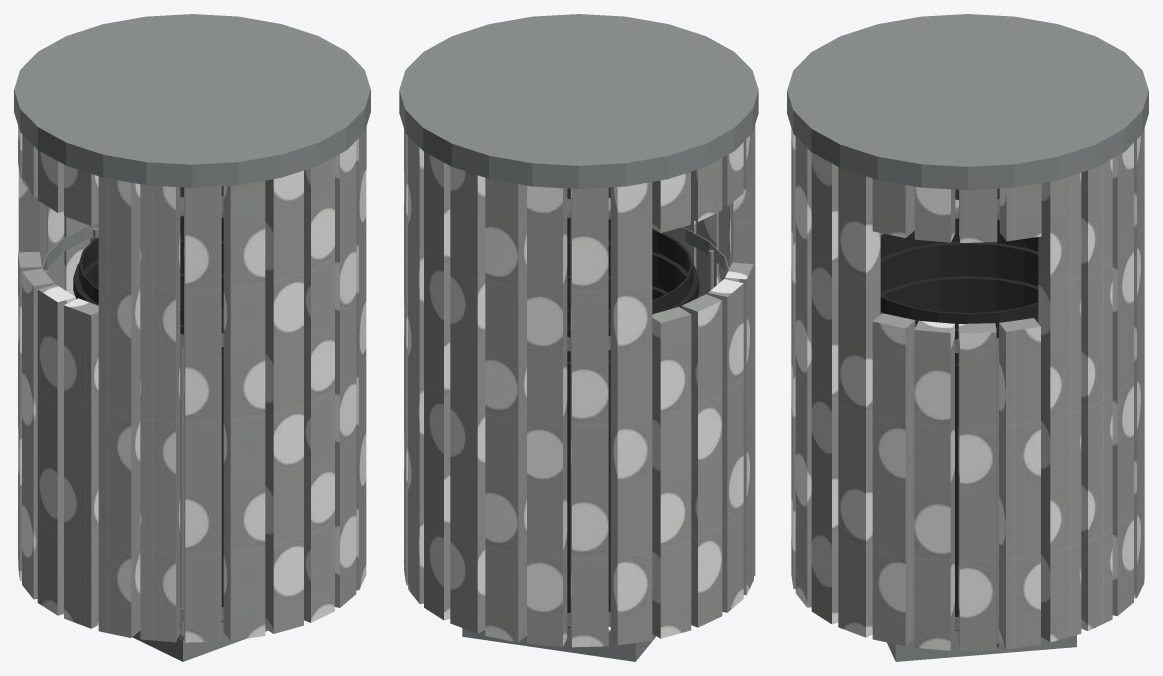
The picture shows the model from 3 angles, left to right: view 1: azimuth 30°, elevation 25°; view 2: azimuth 150°, elevation 25°; view 3: azimuth 270°, elevation 25°; orthographic projection.
Parts seen in each view (by area): view 1: mesh90.001_mesh90-geometry, mesh111.001_mesh111-geometry, mesh110.001_mesh110-geometry, mesh109.001_mesh109-geometry, mesh95.001_mesh95-geometry, mesh112.001_mesh112-geometry, mesh105.001_mesh105-geometry, mesh107.001_mesh107-geometry, mesh85.001_mesh85-geometry, mesh83.001_mesh83-geometry, mesh117.001_mesh117-geometry, mesh115.001_mesh115-geometry (+11 smaller); view 2: mesh90.001_mesh90-geometry, mesh120.001_mesh120-geometry, mesh119.001_mesh119-geometry, mesh114.001_mesh114-geometry, mesh113.001_mesh113-geometry, mesh116.001_mesh116-geometry, mesh93.001_mesh93-geometry, mesh94.001_mesh94-geometry, mesh117.001_mesh117-geometry, mesh83.001_mesh83-geometry, mesh118.001_mesh118-geometry, mesh73.002_mesh73-geometry (+11 smaller); view 3: mesh90.001_mesh90-geometry, mesh86.001_mesh86-geometry, mesh115.001_mesh115-geometry, mesh118.001_mesh118-geometry, mesh73.002_mesh73-geometry, mesh92.001_mesh92-geometry, mesh103.001_mesh103-geometry, mesh106.001_mesh106-geometry, mesh85.001_mesh85-geometry, mesh108.001_mesh108-geometry, mesh94.001_mesh94-geometry, mesh105.001_mesh105-geometry (+8 smaller).
Part boxes in pixels (x1,y1,x2,y2): mesh90.001_mesh90-geometry: (14,14,370,187); mesh111.001_mesh111-geometry: (98,176,140,637); mesh110.001_mesh110-geometry: (223,180,265,640); mesh109.001_mesh109-geometry: (140,184,180,642); mesh95.001_mesh95-geometry: (265,170,303,633); mesh112.001_mesh112-geometry: (184,186,221,642); mesh105.001_mesh105-geometry: (304,157,334,622); mesh107.001_mesh107-geometry: (64,298,98,628); mesh85.001_mesh85-geometry: (335,141,356,607); mesh83.001_mesh83-geometry: (37,284,75,615); mesh117.001_mesh117-geometry: (22,268,54,599); mesh115.001_mesh115-geometry: (356,128,366,590); mesh90.001_mesh90-geometry: (399,14,758,188); mesh120.001_mesh120-geometry: (610,182,652,645); mesh119.001_mesh119-geometry: (485,178,526,642); mesh114.001_mesh114-geometry: (527,185,567,646); mesh113.001_mesh113-geometry: (570,187,608,647); mesh116.001_mesh116-geometry: (450,166,485,633); mesh93.001_mesh93-geometry: (652,307,691,638); mesh94.001_mesh94-geometry: (424,151,450,620); mesh117.001_mesh117-geometry: (681,294,722,627); mesh83.001_mesh83-geometry: (707,279,743,612); mesh118.001_mesh118-geometry: (408,136,423,603); mesh73.002_mesh73-geometry: (567,217,699,627); mesh90.001_mesh90-geometry: (787,14,1148,190); mesh86.001_mesh86-geometry: (1038,173,1081,642); mesh115.001_mesh115-geometry: (838,167,880,637); mesh118.001_mesh118-geometry: (1081,159,1112,630); mesh73.002_mesh73-geometry: (880,218,1038,631); mesh92.001_mesh92-geometry: (872,313,915,646); mesh103.001_mesh103-geometry: (999,318,1040,649); mesh106.001_mesh106-geometry: (914,320,954,650); mesh85.001_mesh85-geometry: (811,152,838,624); mesh108.001_mesh108-geometry: (958,323,996,651); mesh94.001_mesh94-geometry: (1112,143,1133,616); mesh105.001_mesh105-geometry: (795,136,811,607).
Size of the model in its own units: 0.4676 by 0.7501 by 0.4676.
